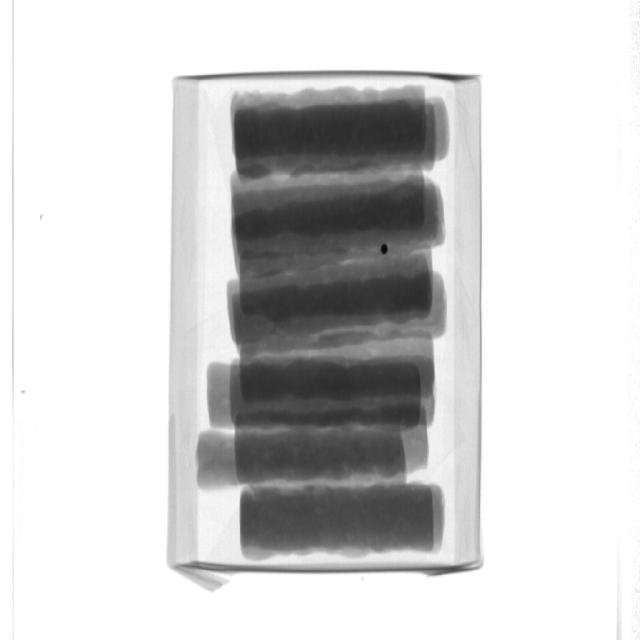ym: (382, 245, 390, 254)
